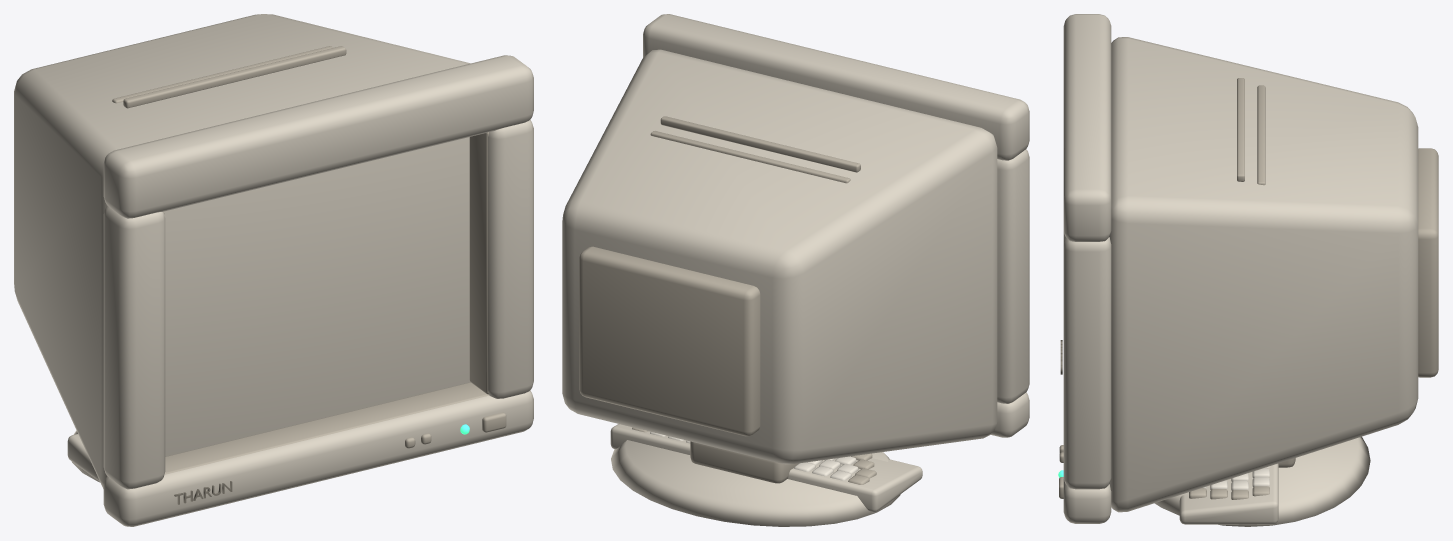
The model's file is props.glb.
3 renders of one model, left to right at view 1: azimuth 30°, elevation 25°; view 2: azimuth 150°, elevation 25°; view 3: azimuth 270°, elevation 25°, orthographic. The views are drawn at different scales.
Visible parts, largest first — view 1: crt, keyboard; view 2: crt, keyboard; view 3: crt, keyboard.
Boxes of the visible parts, box(x1,y1,x2,y2) form: crt: box(14, 14, 533, 526); keyboard: box(67, 434, 99, 481); crt: box(562, 14, 1029, 526); keyboard: box(610, 424, 922, 512); crt: box(1058, 14, 1438, 526); keyboard: box(1179, 463, 1278, 524).
Size of the model in its own units: 0.64 by 0.58 by 0.558.
